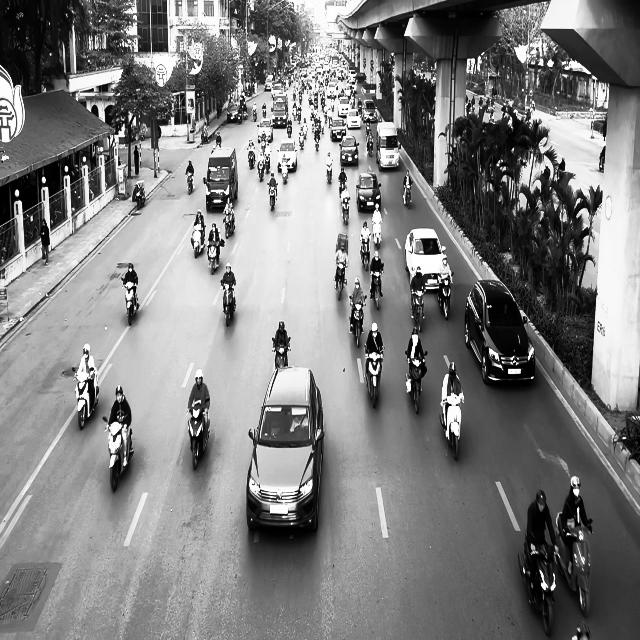car: (246, 365, 324, 532), (464, 279, 535, 385), (404, 228, 447, 290), (356, 172, 381, 212), (276, 137, 298, 172), (339, 135, 359, 166), (257, 118, 273, 142)
motorbike: (554, 510, 593, 617), (518, 536, 557, 636), (102, 416, 134, 492), (72, 366, 99, 430), (187, 399, 210, 470), (440, 393, 464, 460), (405, 349, 427, 414), (364, 343, 384, 408), (349, 294, 366, 347), (121, 276, 139, 325), (437, 273, 453, 320), (220, 280, 236, 326), (410, 287, 425, 332), (370, 267, 384, 309), (272, 336, 290, 368), (191, 223, 205, 258), (335, 262, 347, 300), (359, 234, 371, 271), (207, 240, 220, 274), (223, 206, 235, 238), (133, 180, 145, 209), (267, 182, 278, 210), (340, 196, 350, 225), (402, 180, 412, 208), (372, 220, 382, 248), (247, 144, 255, 169), (325, 160, 333, 183), (186, 172, 194, 195), (281, 161, 288, 184)
